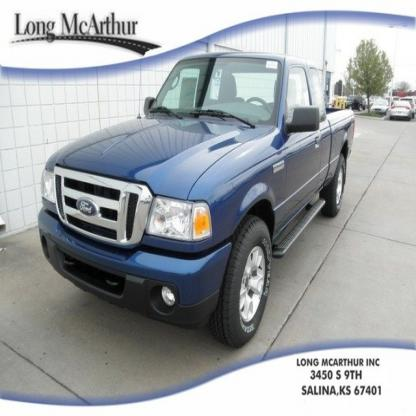car: (38, 55, 357, 350)
